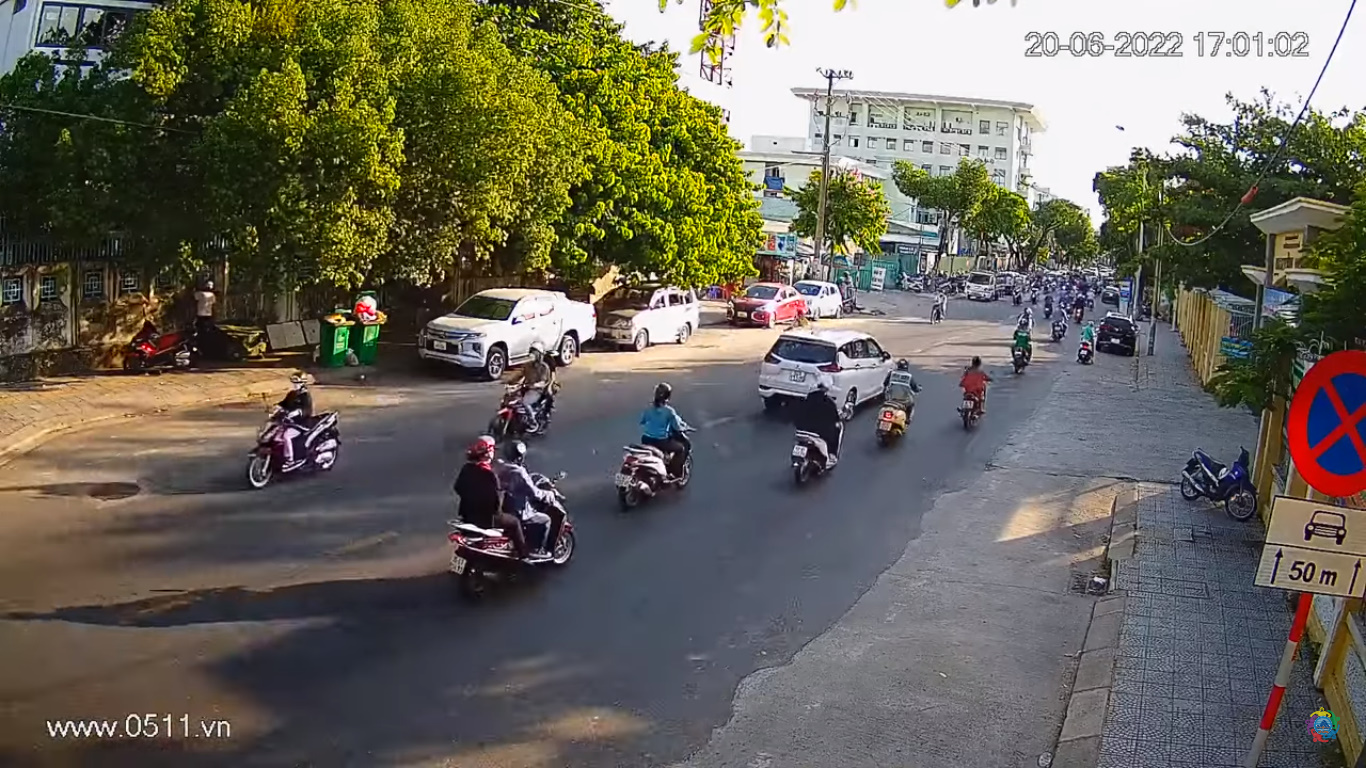car: (759, 325, 900, 420)
